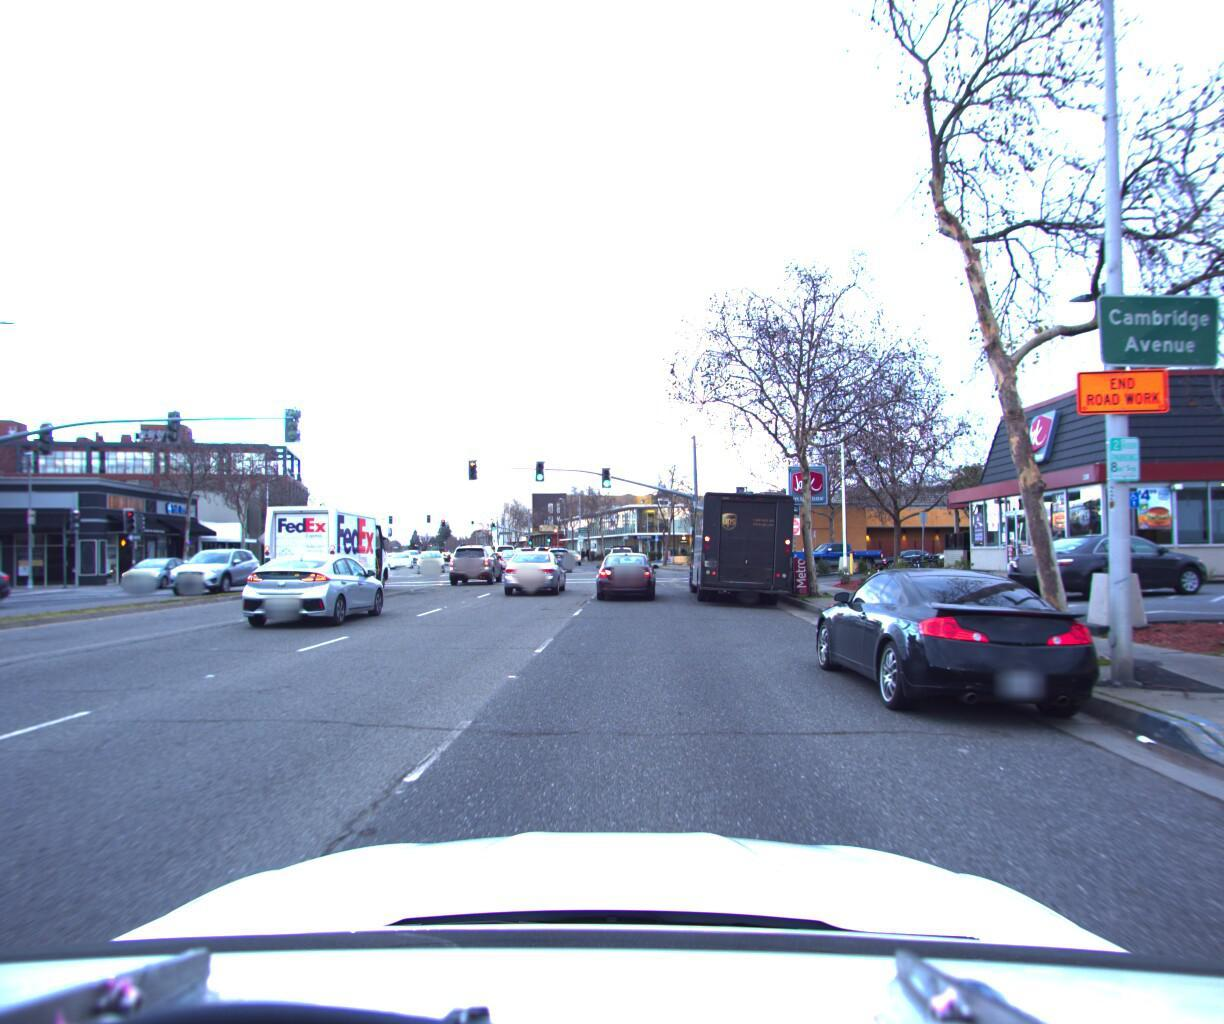bicycle: (894, 545, 948, 584)
car: (800, 556, 1128, 752), (995, 524, 1200, 597), (234, 550, 394, 633), (161, 546, 264, 593), (590, 546, 656, 601), (782, 533, 883, 567), (502, 547, 566, 594), (116, 554, 202, 588), (450, 542, 503, 584), (0, 556, 27, 622), (604, 538, 639, 569), (542, 543, 575, 568), (497, 546, 529, 573), (416, 543, 446, 569), (390, 547, 418, 564), (495, 540, 517, 560), (558, 541, 583, 559)
truck: (685, 484, 807, 603), (259, 499, 399, 597)
